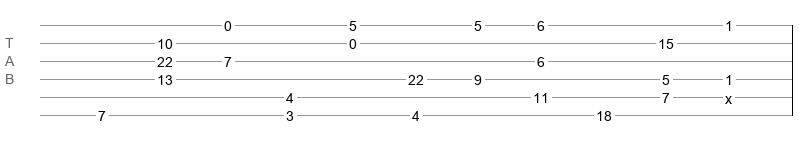0: (224, 18, 232, 28), (349, 36, 357, 46)
1: (725, 18, 733, 28), (725, 72, 733, 82)
10: (157, 36, 173, 46)
11: (533, 90, 549, 100)
13: (157, 72, 173, 82)
15: (658, 36, 674, 46)
18: (596, 108, 612, 118)
22: (157, 54, 173, 64), (408, 72, 424, 82)
3: (286, 108, 294, 118)
4: (286, 90, 294, 100), (412, 108, 420, 118)
5: (349, 18, 357, 28), (474, 18, 482, 28), (662, 72, 670, 82)
6: (537, 18, 545, 28), (537, 54, 545, 64)
7: (98, 108, 106, 118), (224, 54, 232, 64), (662, 90, 670, 100)
9: (474, 72, 482, 82)
x: (725, 91, 732, 99)
